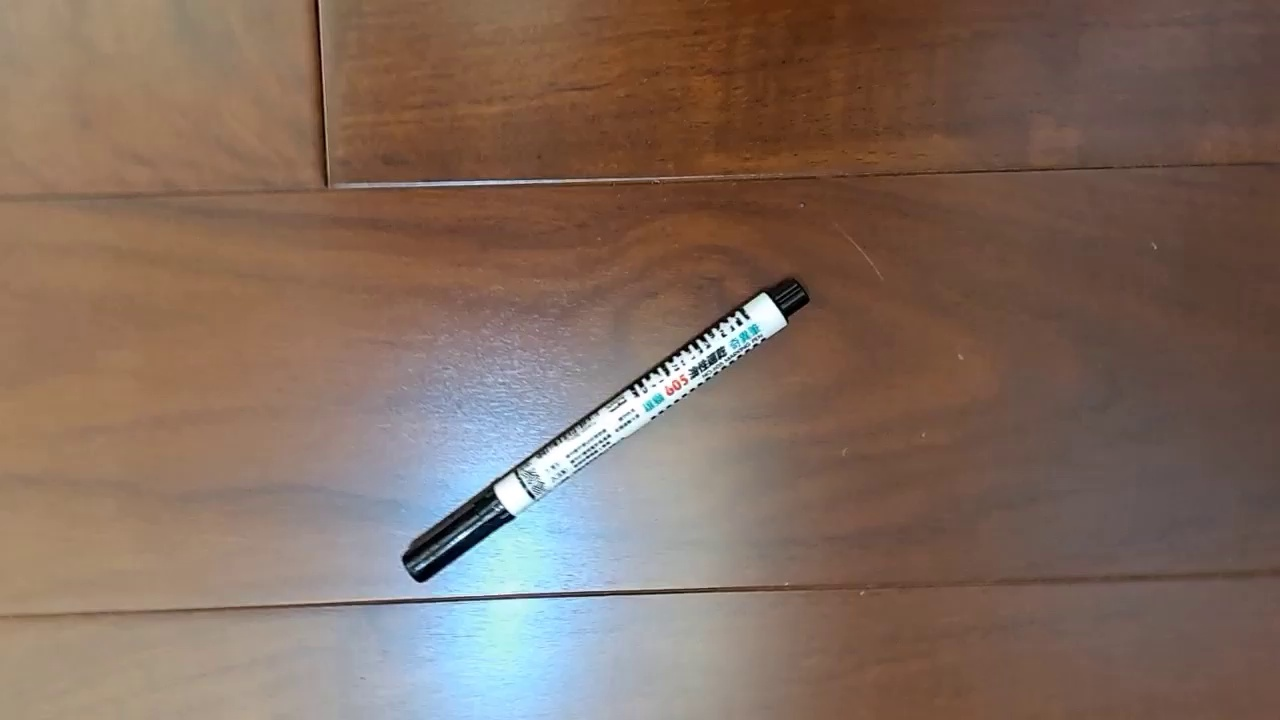pen: (401, 275, 811, 584)
